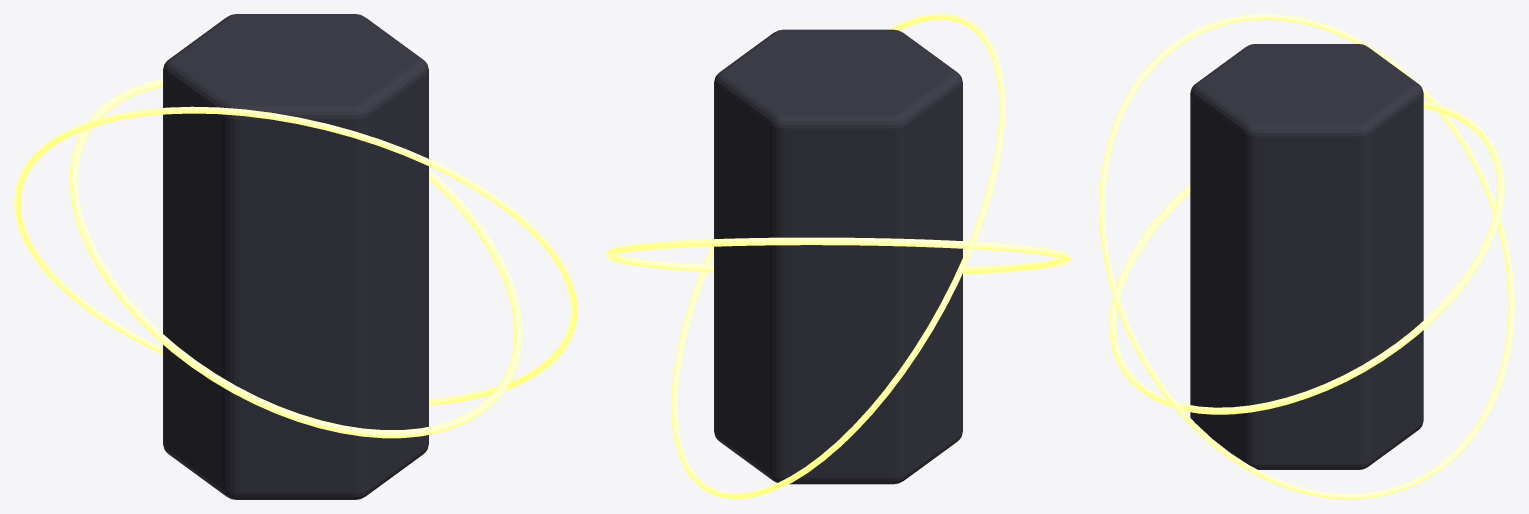
The model's file is monolith.glb.
The picture shows the model from 3 angles, left to right: view 1: azimuth 30°, elevation 25°; view 2: azimuth 150°, elevation 25°; view 3: azimuth 270°, elevation 25°; orthographic projection. The views are drawn at different scales.
Visible parts, largest first — view 1: Monolith_Body, Orbital_Ring_A, Orbital_Ring_B; view 2: Monolith_Body, Orbital_Ring_B, Orbital_Ring_A; view 3: Monolith_Body, Orbital_Ring_B, Orbital_Ring_A.
Part boxes in pixels (x1,y1,x2,y2): Monolith_Body: (163, 14, 428, 499); Orbital_Ring_A: (69, 79, 522, 438); Orbital_Ring_B: (14, 106, 577, 405); Monolith_Body: (714, 29, 962, 484); Orbital_Ring_B: (671, 14, 1005, 499); Orbital_Ring_A: (606, 237, 1070, 274); Monolith_Body: (1190, 44, 1423, 469); Orbital_Ring_B: (1099, 14, 1514, 499); Orbital_Ring_A: (1109, 102, 1504, 414).
Bounding box in the file's own units: 3.56 × 3.47 × 3.49.
